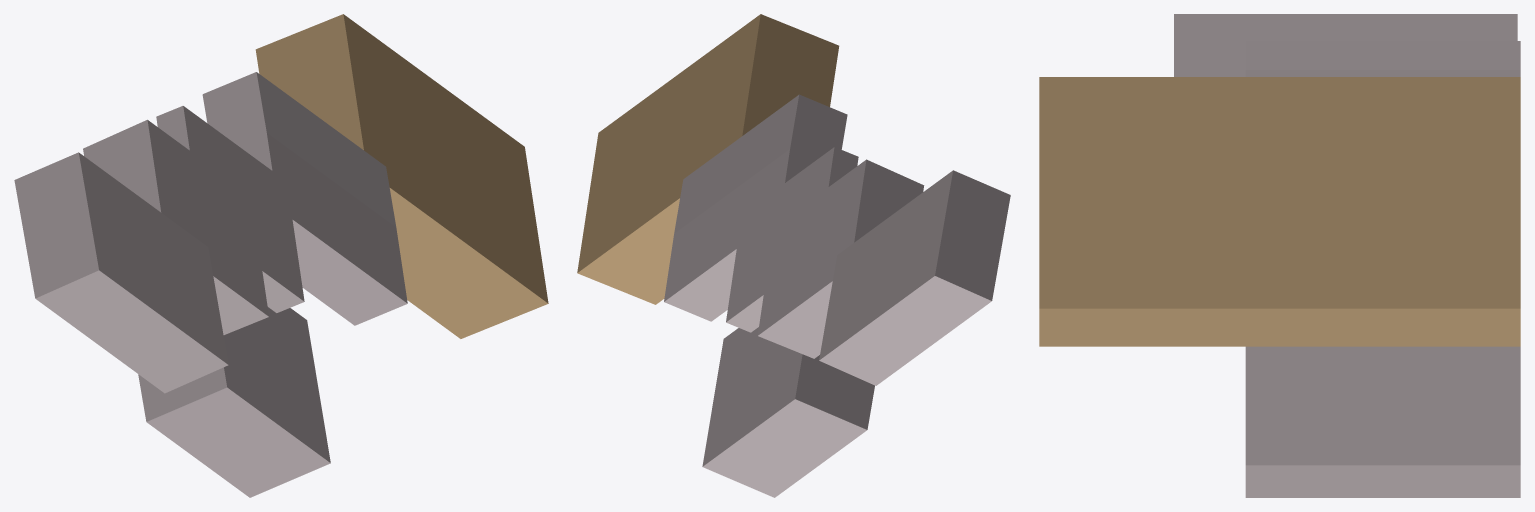
3 renders of one model, left to right at view 1: azimuth 30°, elevation 25°; view 2: azimuth 150°, elevation 25°; view 3: azimuth 270°, elevation 25°, orthographic. The views are drawn at different scales.
Parts seen in each view (by area): view 1: 0_2_3_3_3_0_2_3_0_1; view 2: 0_2_3_3_3_0_2_3_0_1; view 3: 0_2_3_3_3_0_2_3_0_1.
Boxes of the visible parts, <box> form: 0_2_3_3_3_0_2_3_0_1: <box>14,14,548,497</box>; 0_2_3_3_3_0_2_3_0_1: <box>577,14,1010,497</box>; 0_2_3_3_3_0_2_3_0_1: <box>1039,14,1520,497</box>.
Size of the model in its own units: 23.65 by 22.99 by 21.
